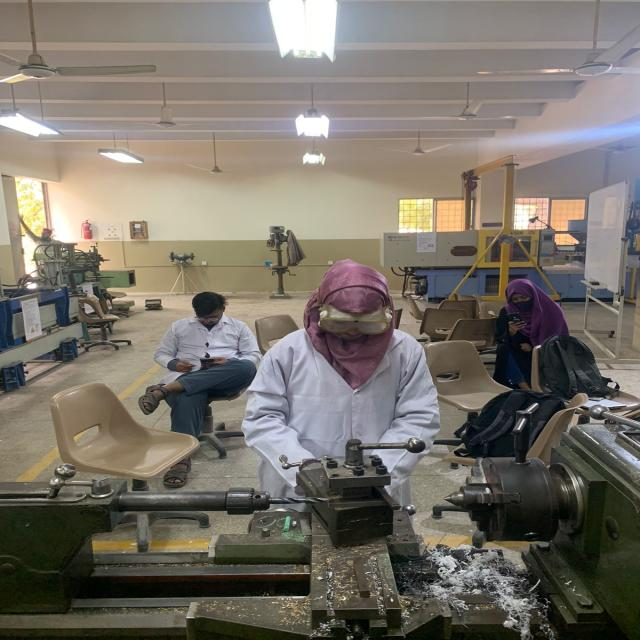labcoat: (242, 319, 444, 528), (316, 304, 394, 336)
